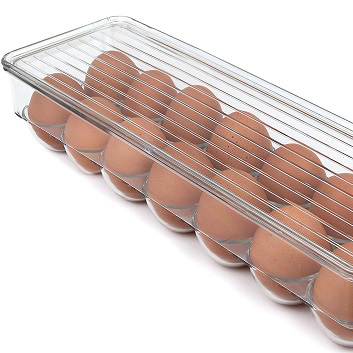egg: (28, 52, 353, 343)
